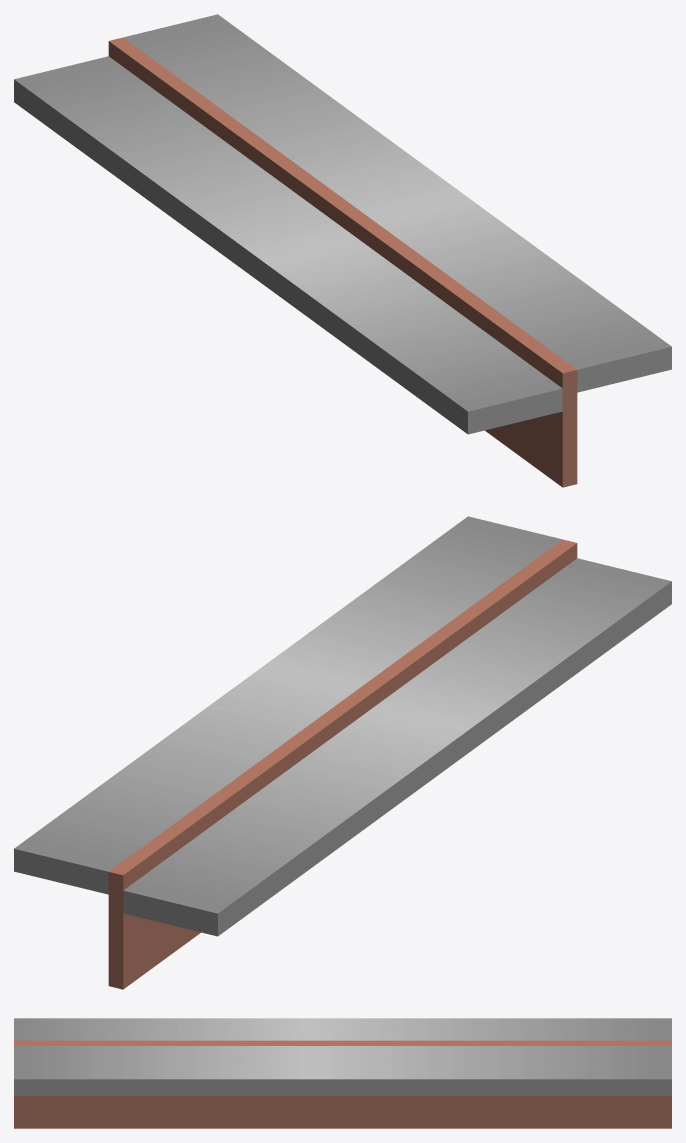
Rendered from Bar.gltf.
3 renders of one model, top to bottom at view 1: azimuth 30°, elevation 25°; view 2: azimuth 150°, elevation 25°; view 3: azimuth 270°, elevation 25°, orthographic. The views are drawn at different scales.
Parts seen in each view (by area): view 1: cube (×3); view 2: cube (×3); view 3: cube (×3).
Boxes of the visible parts, bbox=[...] form: cube (×3): bbox=[14, 14, 671, 487]; cube (×3): bbox=[14, 516, 671, 989]; cube (×3): bbox=[14, 1018, 671, 1128].
Size of the model in its own units: 0.4375 by 0.2344 by 1.69.
Materials: 1 (1 with a texture image).
